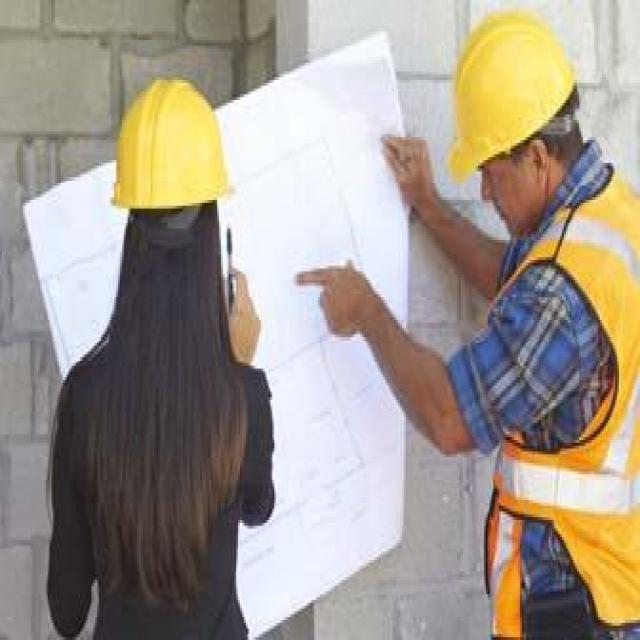Reflective-Jacket: (480, 183, 636, 628)
Safety-Helmet: (442, 0, 583, 180), (97, 63, 244, 223)
